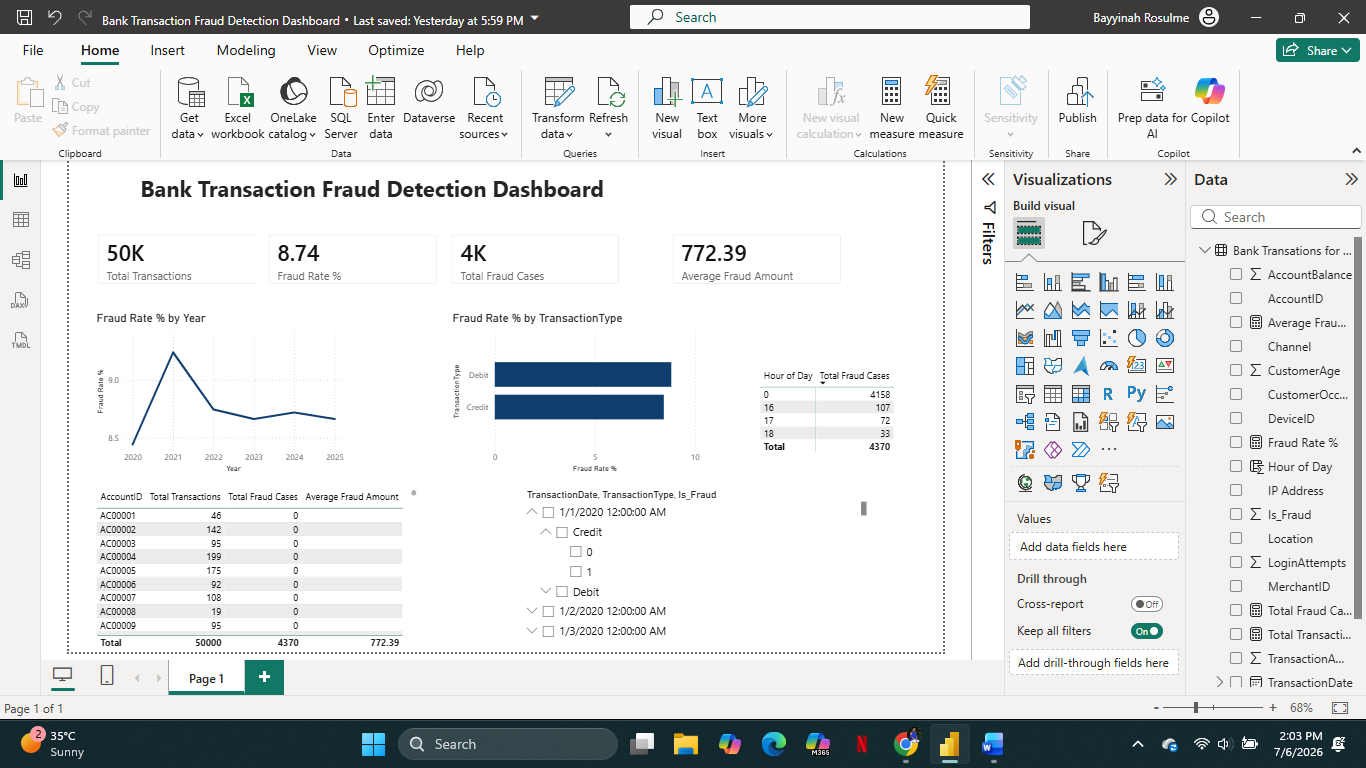

The page's visual inventory and layout, read from the dashboard file:
{"tool":"powerbi","page":{"name":"Page 1","canvas":[1280,720],"ordinal":0},"visuals":[{"type":"cardVisual","fields":{"Data":["Bank Transations for Fraud Detection.Total Transactions"]},"box":[24.9,92.2,281,106.8],"z":0},{"type":"cardVisual","fields":{"Data":["Bank Transations for Fraud Detection.Total Fraud Cases"]},"box":[542.9,92.2,279.5,106.8],"z":1000},{"type":"cardVisual","fields":{"Data":["Bank Transations for Fraud Detection.Fraud Rate %"]},"box":[275.1,92.2,281,106.8],"z":2000},{"type":"cardVisual","fields":{"Data":["Bank Transations for Fraud Detection.Average Fraud Amount"]},"box":[866.3,92.2,281,106.8],"z":3000},{"type":"lineChart","fields":{"Category":["Bank Transations for Fraud Detection.TransactionDate.Variation.Date Hierarchy.Year","Bank Transations for Fraud Detection.TransactionDate.Variation.Date Hierarchy.Quarter","Bank Transations for Fraud Detection.TransactionDate.Variation.Date Hierarchy.Month","Bank Transations for Fraud Detection.TransactionDate.Variation.Date Hierarchy.Day"],"Y":["Bank Transations for Fraud Detection.Fraud Rate %"]},"box":[35.1,221,371.7,241.5],"z":4000},{"type":"clusteredBarChart","fields":{"Category":["Bank Transations for Fraud Detection.TransactionType"],"Y":["Bank Transations for Fraud Detection.Fraud Rate %"]},"box":[556.1,221,371.7,241.5],"z":5000},{"type":"pivotTable","fields":{"Rows":["Bank Transations for Fraud Detection.Hour of Day"],"Values":["Bank Transations for Fraud Detection.Total Fraud Cases"]},"box":[1006.8,300,216.6,147.8],"z":6000},{"type":"tableEx","fields":{"Values":["Bank Transations for Fraud Detection.AccountID","Bank Transations for Fraud Detection.Total Transactions","Bank Transations for Fraud Detection.Total Fraud Cases","Bank Transations for Fraud Detection.Average Fraud Amount"]},"box":[35.1,477.1,478.5,242.9],"z":7000},{"type":"slicer","fields":{"Values":["Bank Transations for Fraud Detection.TransactionDate","Bank Transations for Fraud Detection.TransactionType","Bank Transations for Fraud Detection.Is_Fraud"]},"box":[657.1,477.1,515.1,228.3],"z":8000},{"type":"textbox","box":[99.5,14.6,800.5,77.6],"z":9000}]}

Visuals, with their boxes on the page's 1280x720 design canvas (x1, y1, x2, y2). These are canvas units, not pixel positions in the 1366x768 screenshot, which may show the page scaled, cropped or inside an application window:
cardVisual - Bank Transations for Fraud Detection.Total Transactions: Rect(25, 92, 306, 199)
cardVisual - Bank Transations for Fraud Detection.Total Fraud Cases: Rect(543, 92, 822, 199)
cardVisual - Bank Transations for Fraud Detection.Fraud Rate %: Rect(275, 92, 556, 199)
cardVisual - Bank Transations for Fraud Detection.Average Fraud Amount: Rect(866, 92, 1147, 199)
lineChart - Bank Transations for Fraud Detection.TransactionDate.Variation.Date Hierarchy.Year x Bank Transations for Fraud Detection.TransactionDate.Variation.Date Hierarchy.Quarter: Rect(35, 221, 407, 462)
clusteredBarChart - Bank Transations for Fraud Detection.TransactionType x Bank Transations for Fraud Detection.Fraud Rate %: Rect(556, 221, 928, 462)
pivotTable - Bank Transations for Fraud Detection.Hour of Day x Bank Transations for Fraud Detection.Total Fraud Cases: Rect(1007, 300, 1223, 448)
tableEx - Bank Transations for Fraud Detection.AccountID x Bank Transations for Fraud Detection.Total Transactions: Rect(35, 477, 514, 720)
slicer - Bank Transations for Fraud Detection.TransactionDate x Bank Transations for Fraud Detection.TransactionType: Rect(657, 477, 1172, 705)
textbox: Rect(100, 15, 900, 92)
